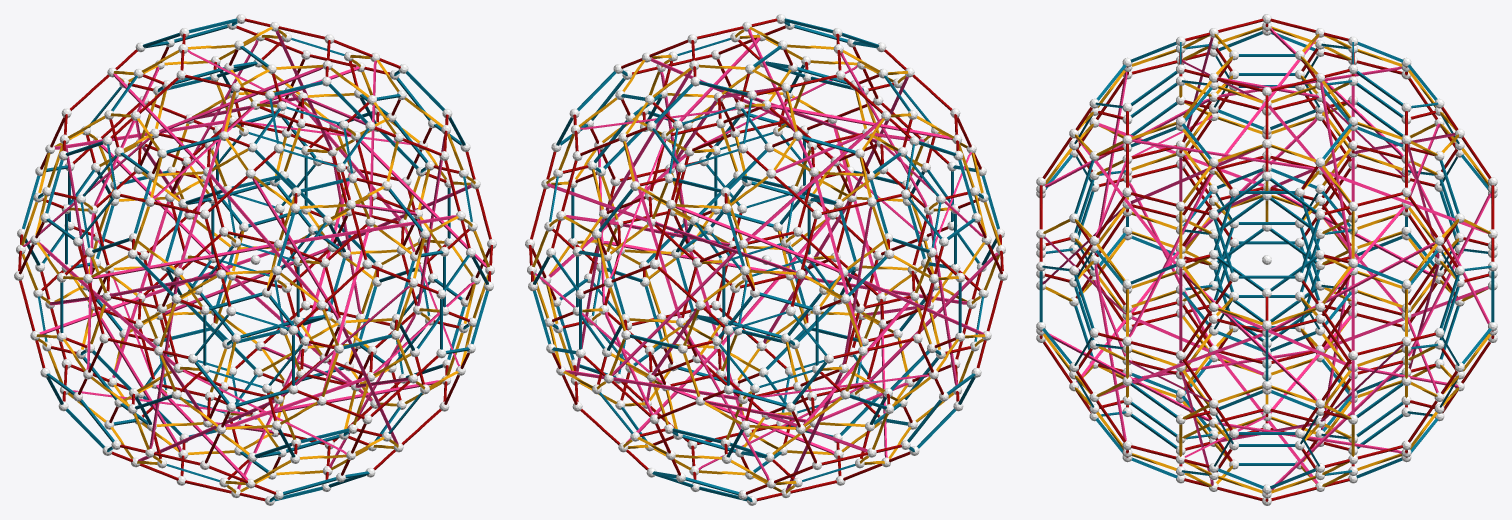
Rendered from pink-hyperdo.gltf.
3 renders of one model, left to right at view 1: azimuth 30°, elevation 25°; view 2: azimuth 150°, elevation 25°; view 3: azimuth 270°, elevation 25°, orthographic.
Size of the model in its own units: 95.96 by 95.96 by 95.96.
